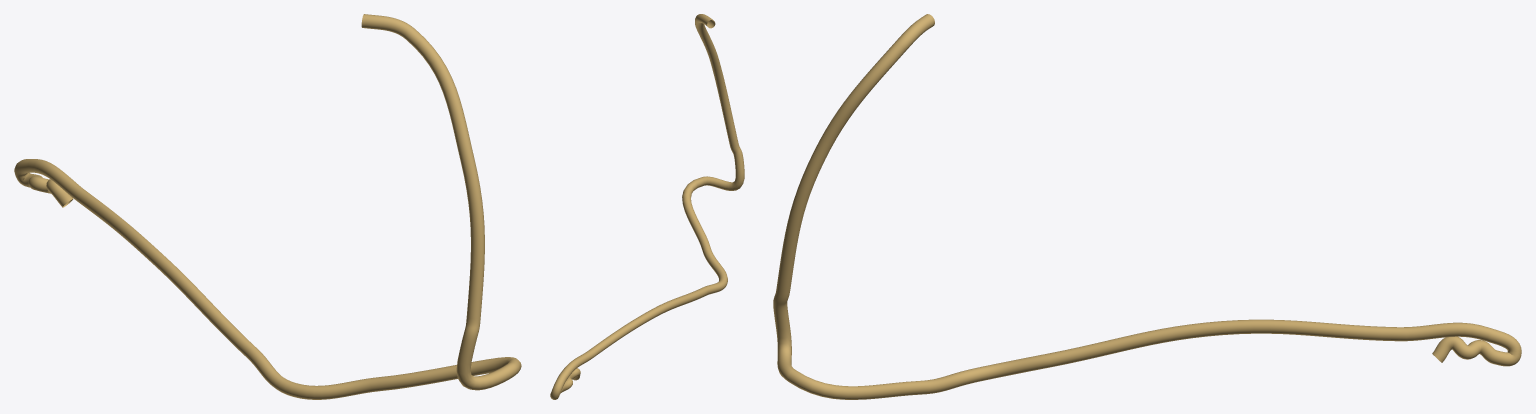
3 views of the same model, side by side, from view 1: azimuth 30°, elevation 25°; view 2: azimuth 150°, elevation 25°; view 3: azimuth 270°, elevation 25° (orthographic). The views are drawn at different scales.
Parts seen in each view (by area): view 1: 左侧输精管; view 2: 左侧输精管; view 3: 左侧输精管.
Part boxes in pixels (x1,y1,x2,y2): 左侧输精管: [14, 14, 521, 399]; 左侧输精管: [550, 14, 744, 399]; 左侧输精管: [773, 14, 1521, 399].
Size of the model in its own units: 0.0571 by 0.1341 by 0.2344.
